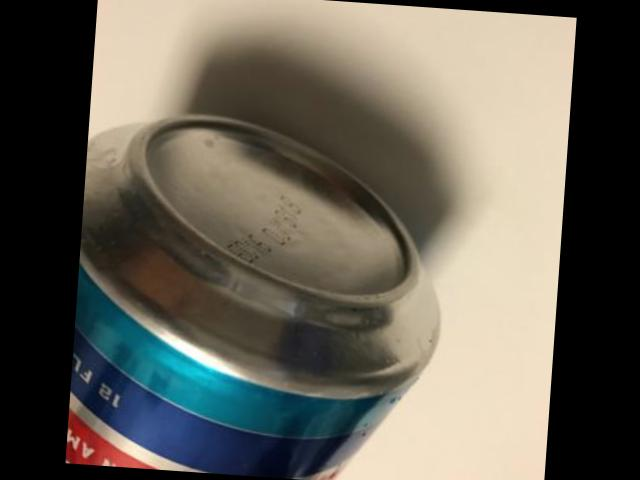metal: (64, 118, 434, 480)
